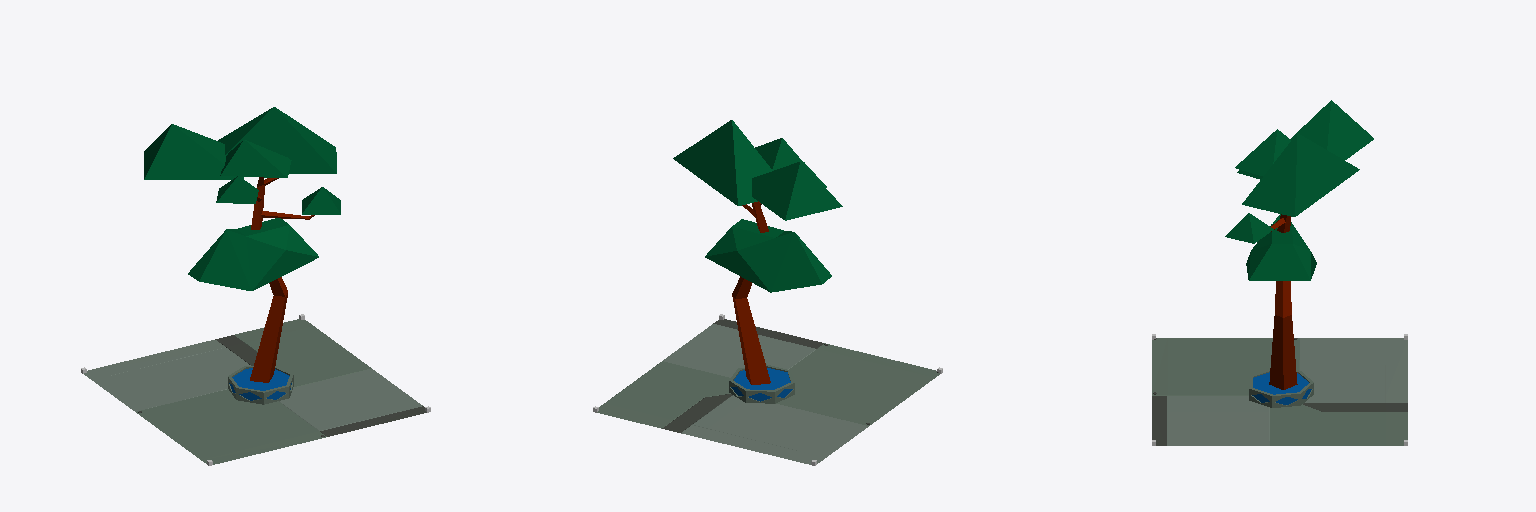
3 views of the same model, side by side, from view 1: azimuth 30°, elevation 25°; view 2: azimuth 150°, elevation 25°; view 3: azimuth 270°, elevation 25° (orthographic).
Visible parts, largest first — view 1: Scifi_Panel_04_Plaza014_group4.029, tree11, Cylinder.001_Cylinder.002; view 2: Scifi_Panel_04_Plaza014_group4.029, tree11, Cylinder.001_Cylinder.002; view 3: Scifi_Panel_04_Plaza014_group4.029, tree11, Cylinder.001_Cylinder.002.
Part boxes in pixels (x1,y1,x2,y2): Scifi_Panel_04_Plaza014_group4.029: (84,319,426,464); tree11: (144,107,340,382); Cylinder.001_Cylinder.002: (228,366,293,404); Scifi_Panel_04_Plaza014_group4.029: (597,319,939,464); tree11: (673,120,842,384); Cylinder.001_Cylinder.002: (729,364,794,403); Scifi_Panel_04_Plaza014_group4.029: (1152,338,1407,445); tree11: (1225,100,1373,389); Cylinder.001_Cylinder.002: (1249,369,1313,407).
Size of the model in its own units: 10 by 11.74 by 10.